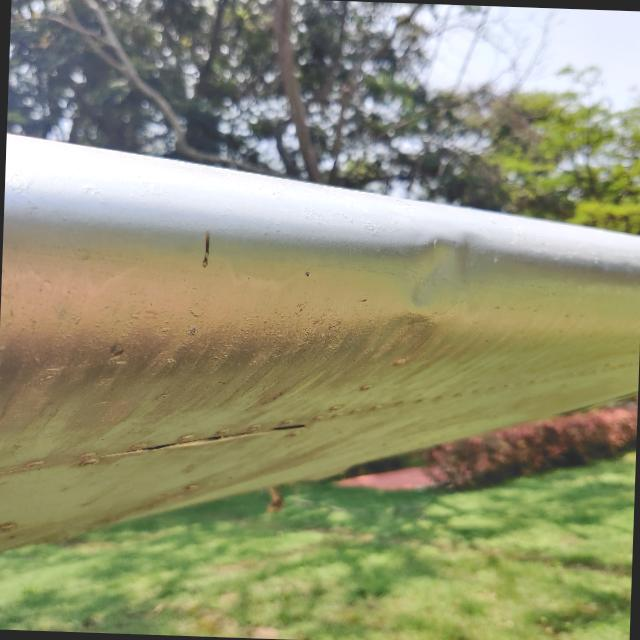dent: (384, 212, 496, 331)
